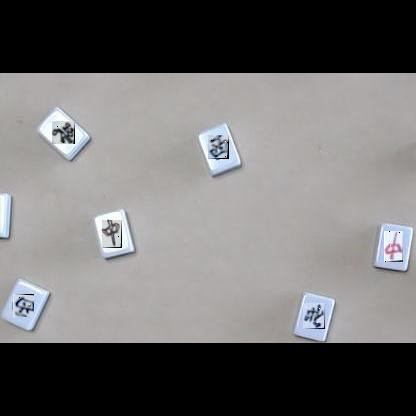3z: (208, 135, 229, 159), (13, 294, 34, 317)
4z: (303, 303, 325, 329), (52, 121, 75, 144)
7z: (384, 231, 403, 262), (102, 220, 122, 248)
